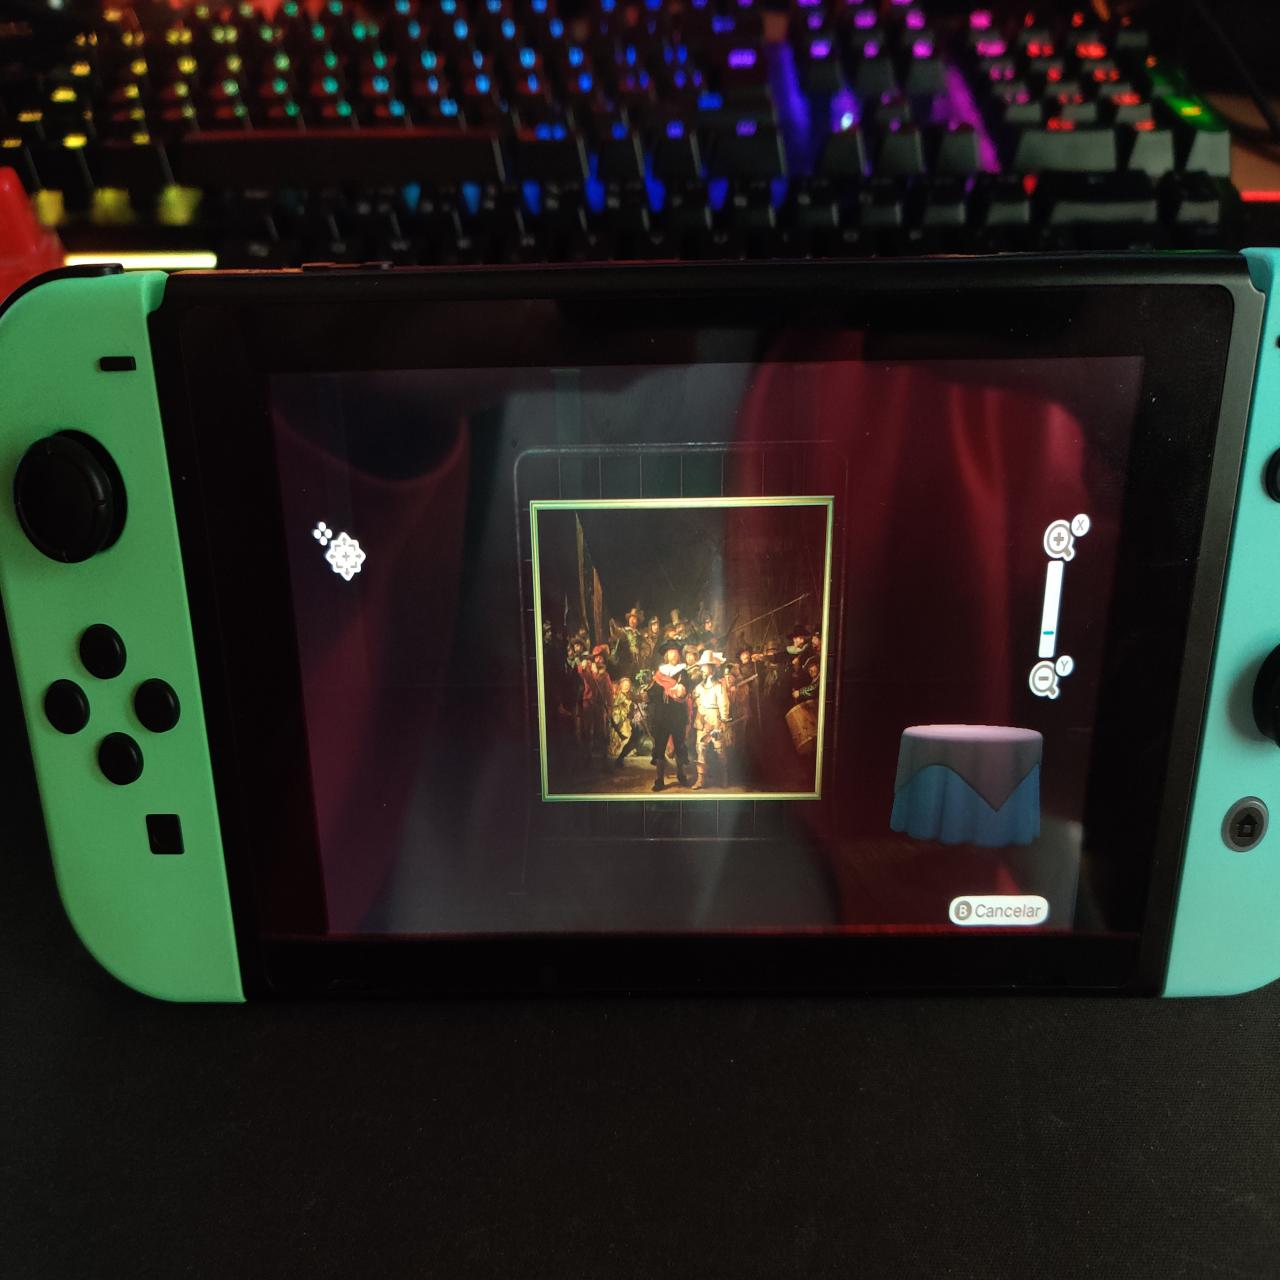NightWatch: (540, 510, 828, 790)
